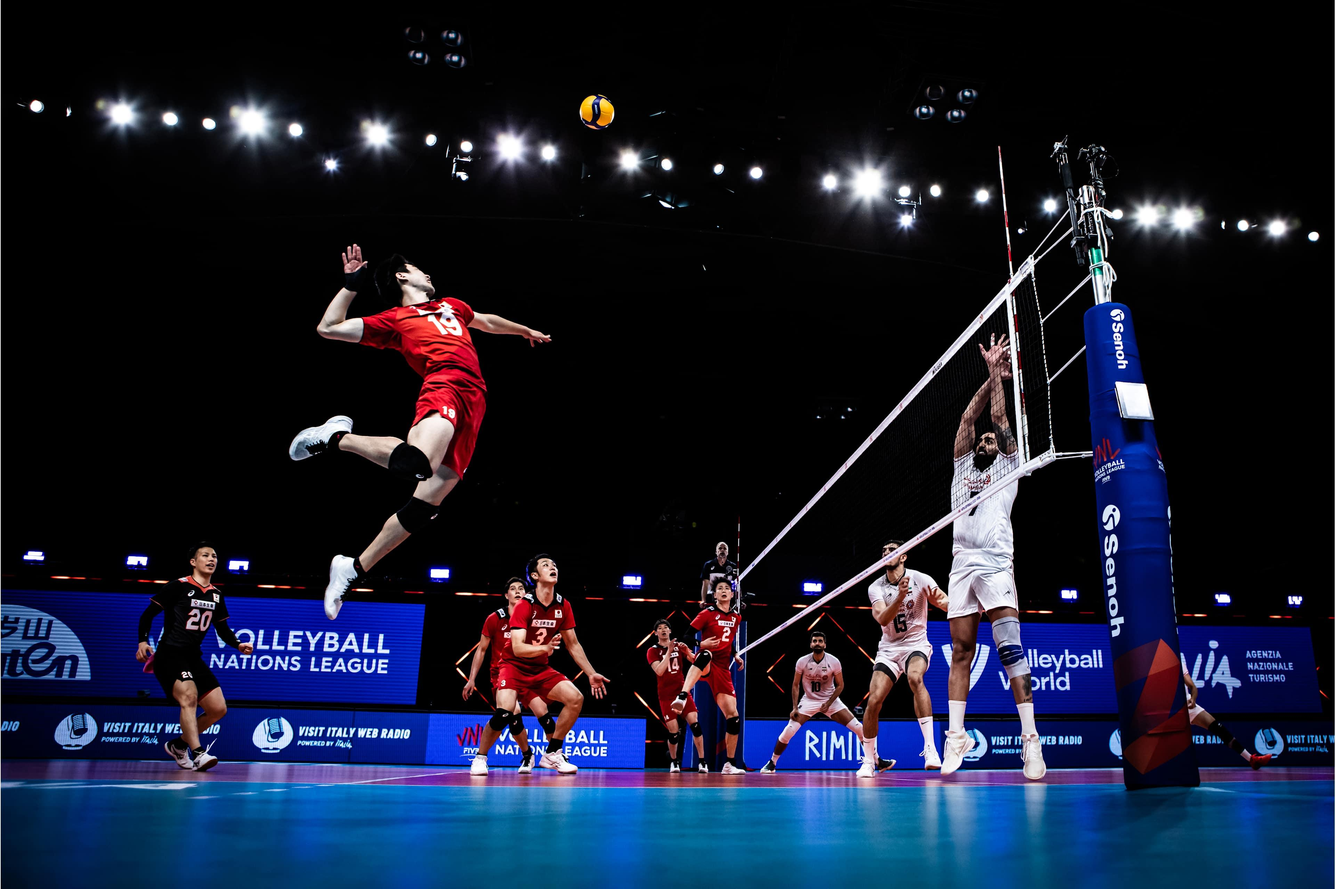ballon_volley: (578, 93, 614, 131)
